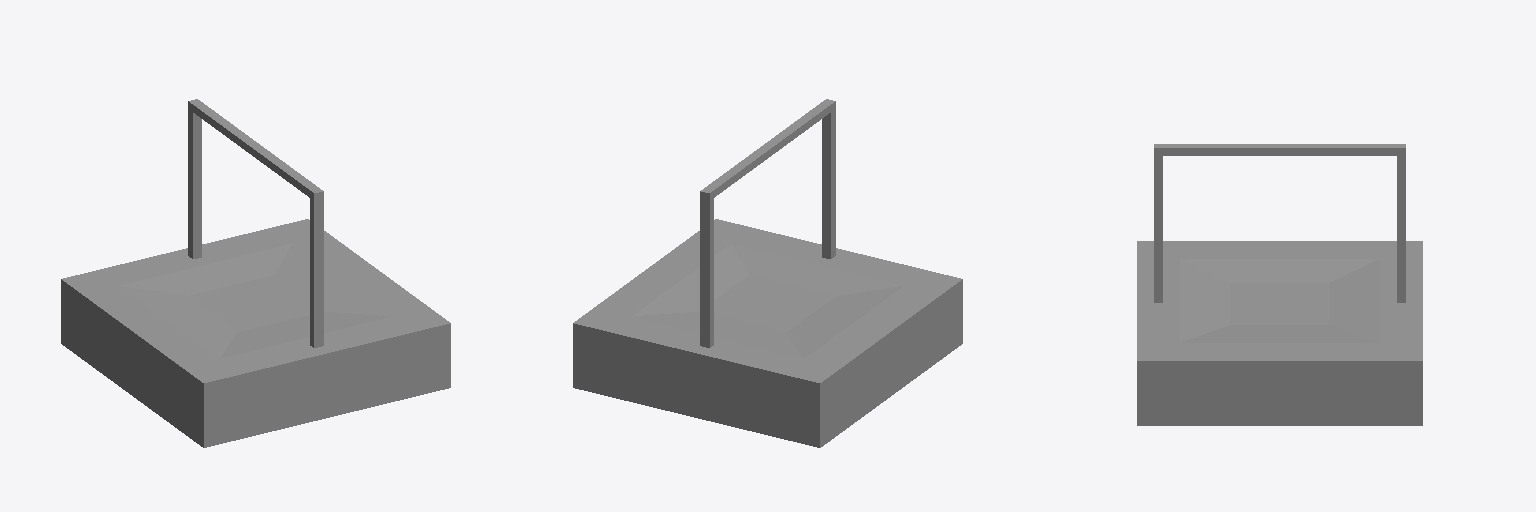
The model's file is cauldron_stand.obj.
3 renders of one model, left to right at view 1: azimuth 30°, elevation 25°; view 2: azimuth 150°, elevation 25°; view 3: azimuth 270°, elevation 25°, orthographic.
Size of the model in its own units: 3 by 2.55 by 3.